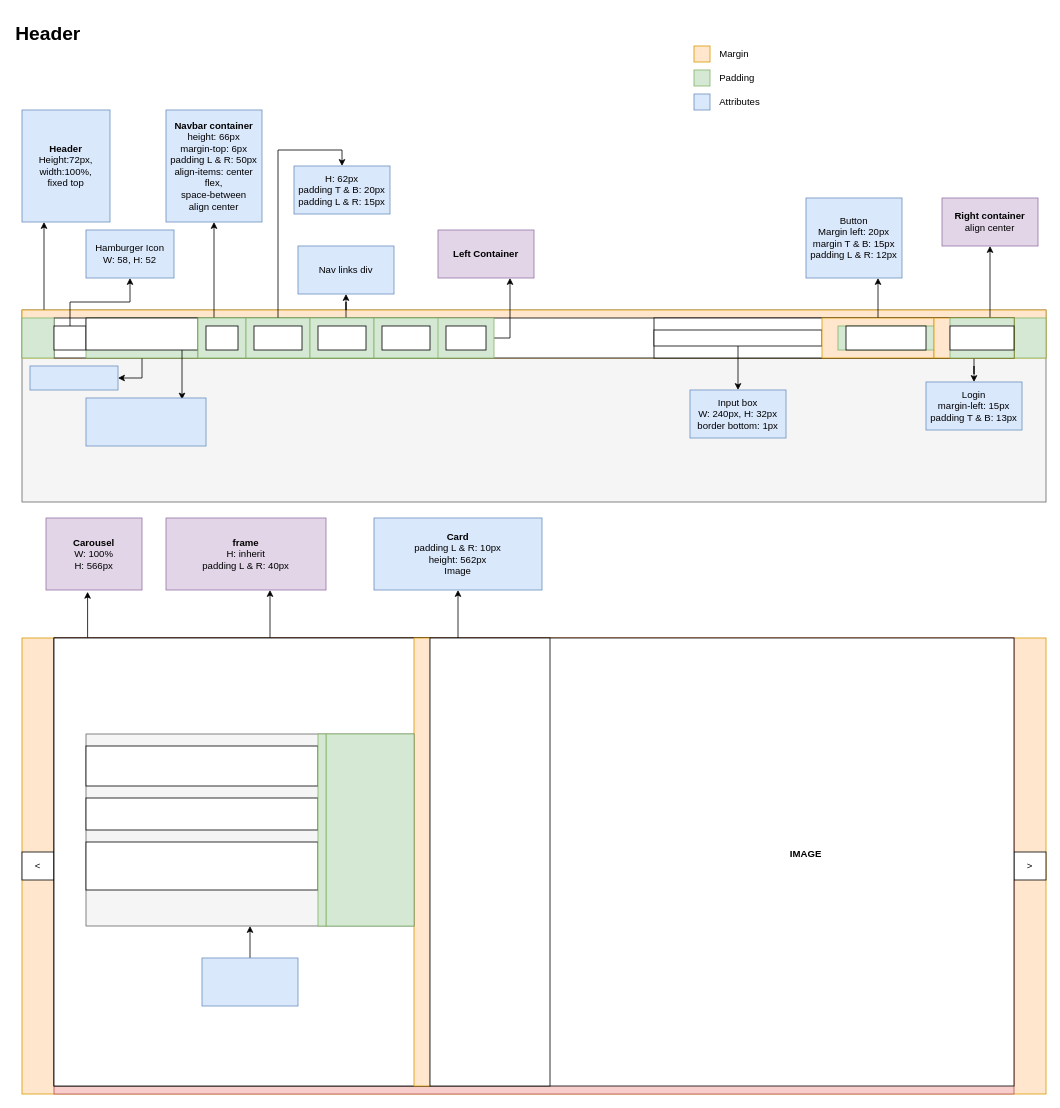
This 1060x1108 diagram has some shape labels left out. Here are the shapes that lost their labels. From the top down, the centre of each, then its label:
the point at 73,377: Logo container W: 162px, H: 62px
the point at 145,421: Logo SVG W: inherit; H: 48px Padding-bottom 14px
the point at 201,765: H1, H: 54px
the point at 201,813: Tags, H: 41px, Padding-top: 10px
the point at 369,829: Padding right 10%
the point at 201,865: Description, Padding top: 10px
the point at 489,861: Gradient
the point at 249,981: Padding right: 10px
